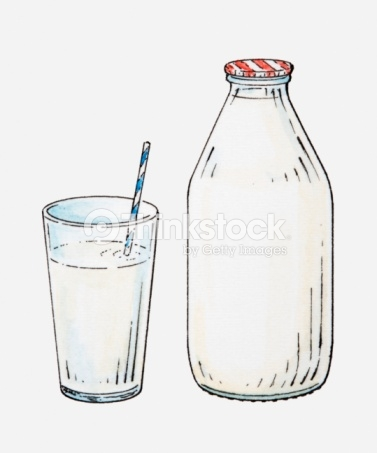glass of milk: (49, 211, 146, 401)
